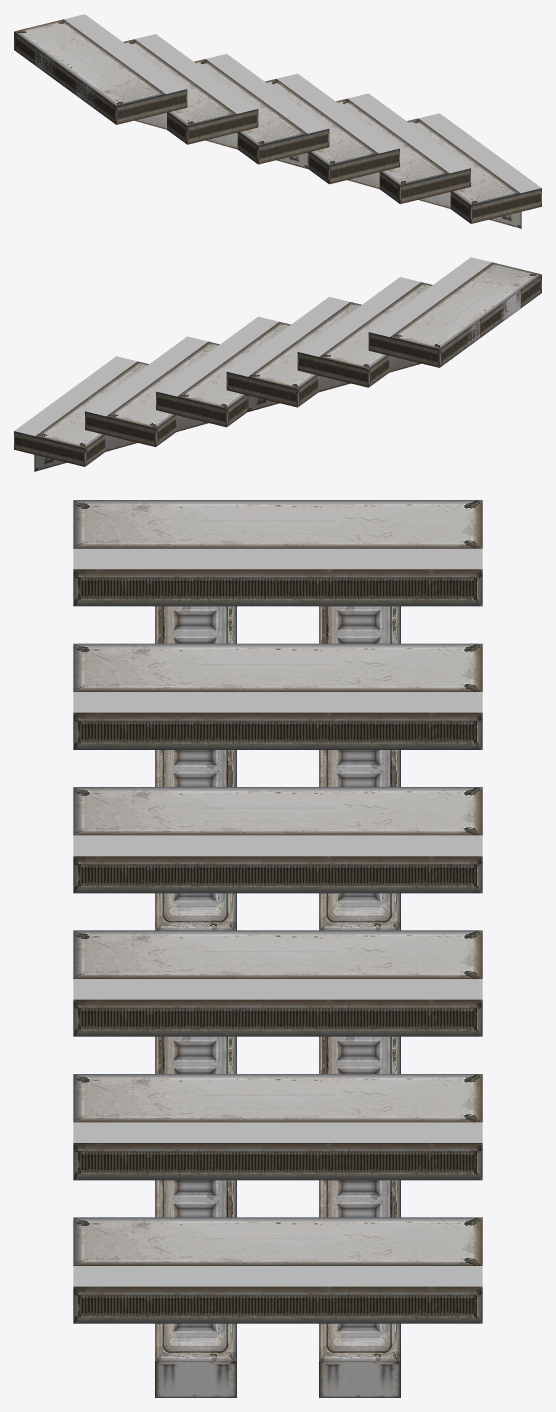
Rendered from scifi_stairs_4.FBX.
3 renders of one model, top to bottom at view 1: azimuth 30°, elevation 25°; view 2: azimuth 150°, elevation 25°; view 3: azimuth 270°, elevation 25°, orthographic. The views are drawn at different scales.
Visible parts, largest first — view 1: Plane338; view 2: Plane338; view 3: Plane338.
Boxes of the visible parts, x1,y1,x2,y2 form: Plane338: (14,14,541,228); Plane338: (14,257,541,471); Plane338: (73,500,482,1397).
Size of the model in its own units: 305 by 165 by 127.
